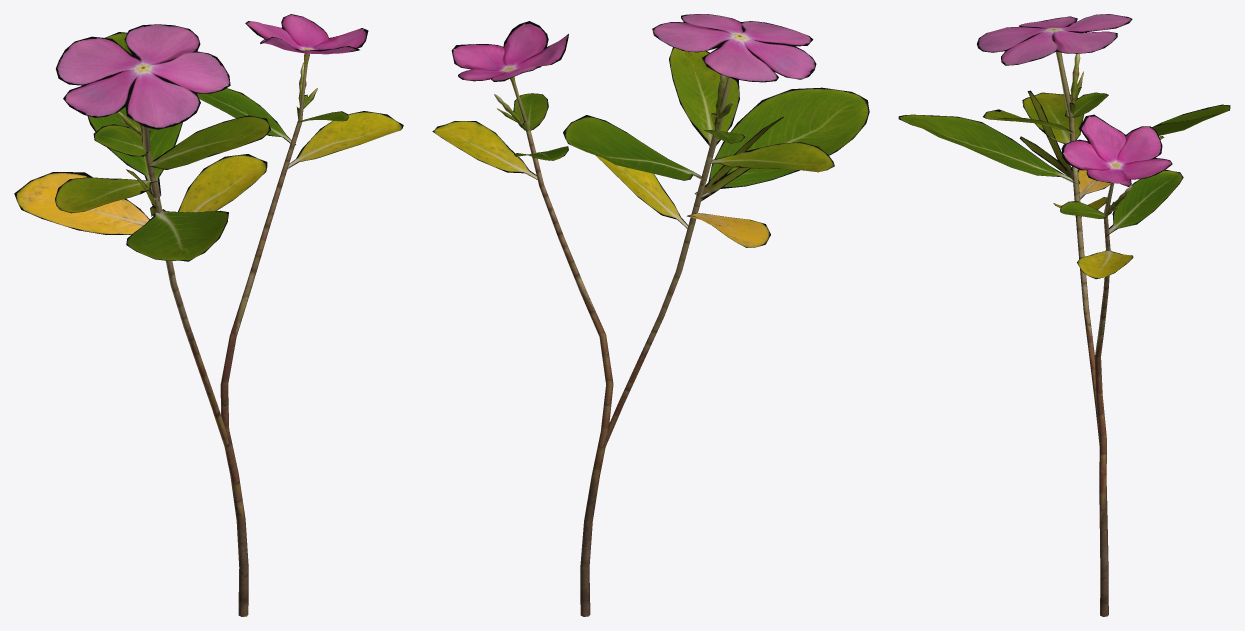
Rendered from periwinkle_plant_01.glb.
The picture shows the model from 3 angles, left to right: view 1: azimuth 30°, elevation 25°; view 2: azimuth 150°, elevation 25°; view 3: azimuth 270°, elevation 25°; orthographic projection. The views are drawn at different scales.
Parts seen in each view (by area): view 1: periwinkle_plant; view 2: periwinkle_plant; view 3: periwinkle_plant.
Part boxes in pixels (box(x1,y1,x2,y2)): periwinkle_plant: box(14, 14, 403, 616); periwinkle_plant: box(432, 14, 869, 616); periwinkle_plant: box(898, 14, 1230, 616).
Size of the model in its own units: 0.1029 by 0.1597 by 0.0894.
1 material, 1 textured.
